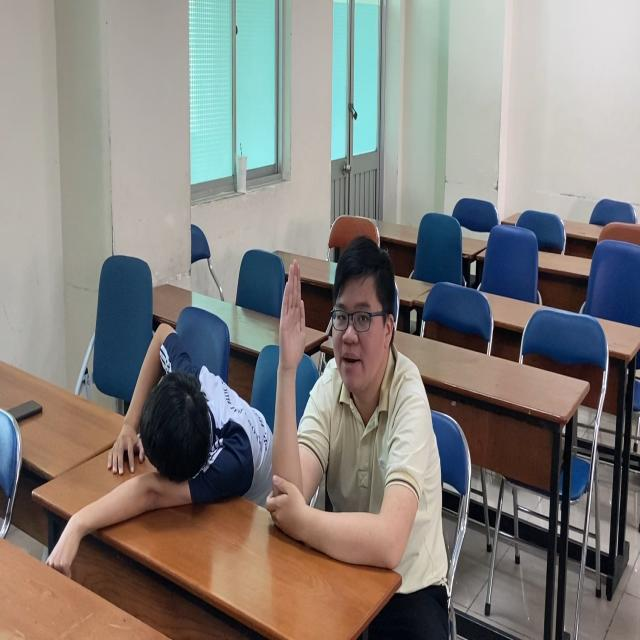raise_hand: (273, 235, 437, 568)
sleep: (74, 313, 275, 517)
